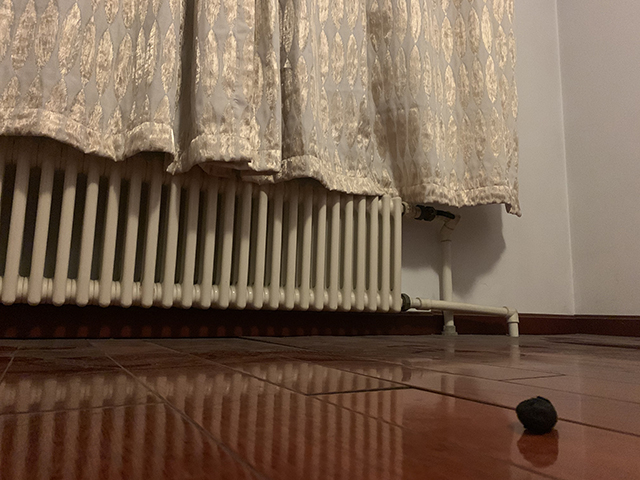curtain: (1, 1, 522, 218)
feces: (515, 395, 559, 436)
